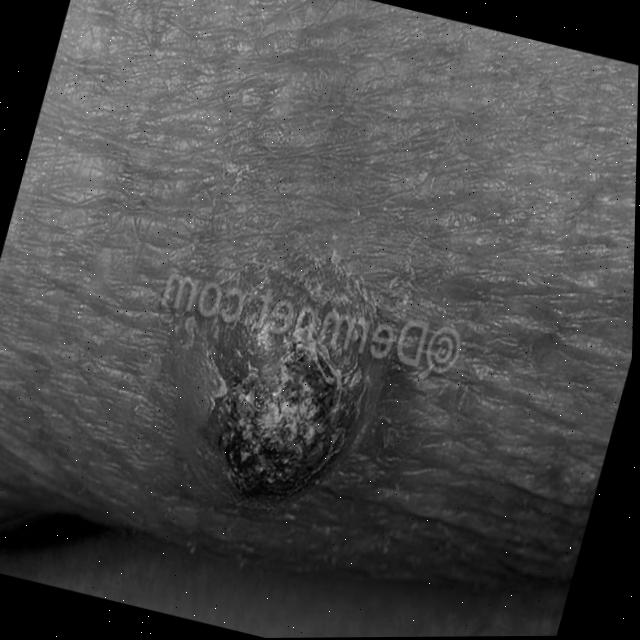Eczema: (177, 264, 423, 523)
